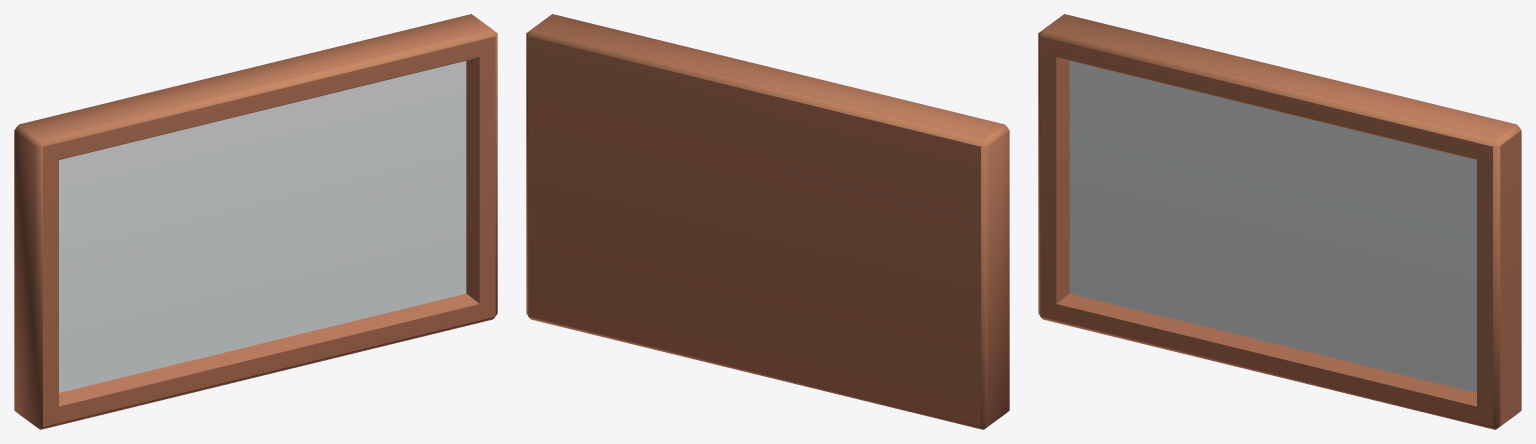
The model's file is pictureframe_large_B.glb.
3 views of the same model, side by side, from view 1: azimuth 30°, elevation 25°; view 2: azimuth 150°, elevation 25°; view 3: azimuth 330°, elevation 25° (orthographic).
Parts seen in each view (by area): view 1: pictureframe_large_B; view 2: pictureframe_large_B; view 3: pictureframe_large_B.
Boxes of the visible parts, <box> form: pictureframe_large_B: <box>14,14,497,429</box>; pictureframe_large_B: <box>526,14,1009,429</box>; pictureframe_large_B: <box>1038,14,1521,429</box>.
Bounding box in the file's own units: 2 × 1.2 × 0.2.
Materials: 1 (1 with a texture image).
